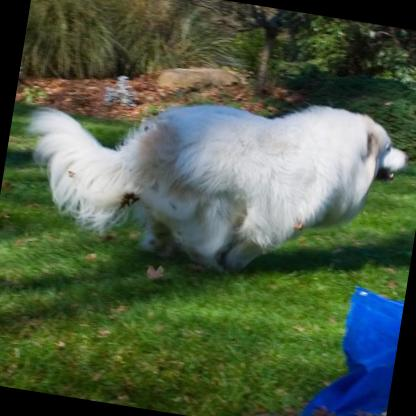Great_Pyrenees: (9, 59, 416, 301)
